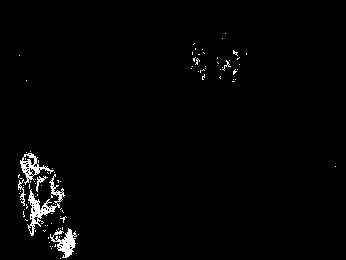person: (18, 151, 77, 260)
